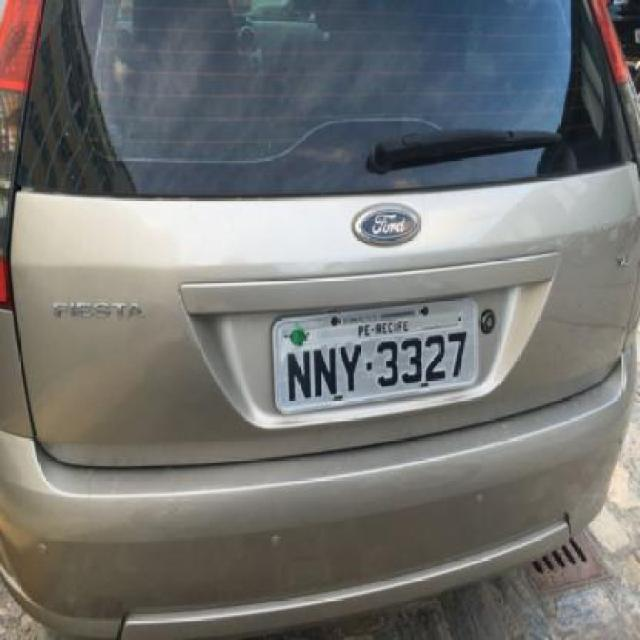old_plate: (266, 292, 484, 423)
